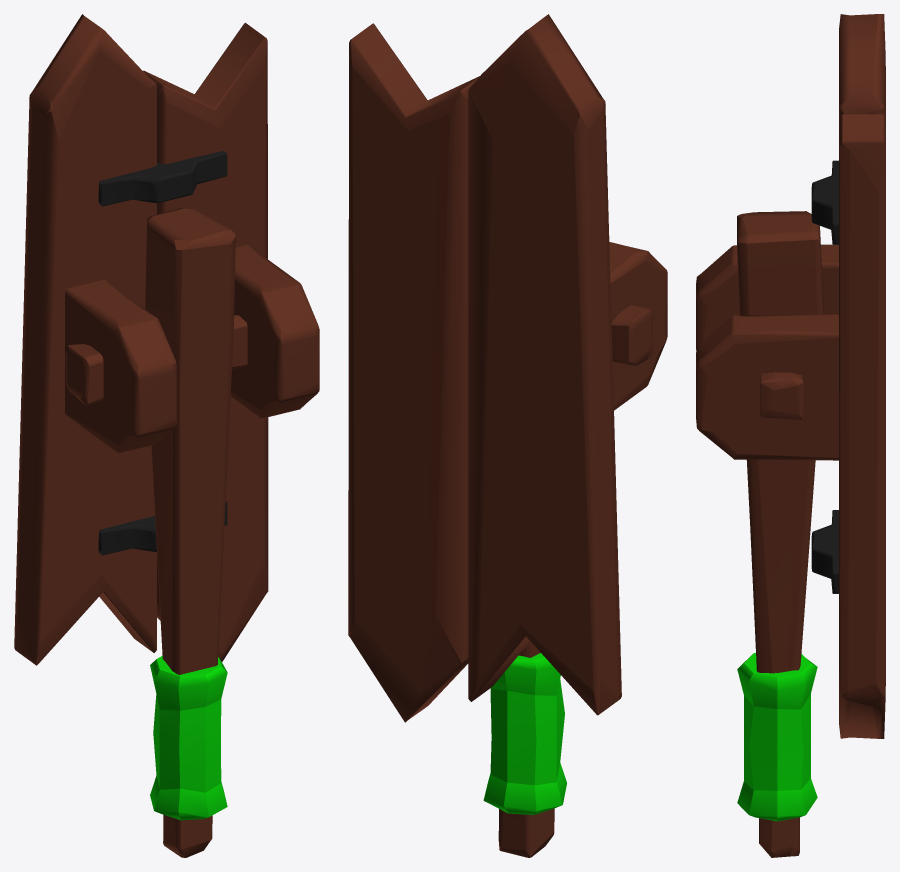
File: Lever.fbx
3 renders of one model, left to right at view 1: azimuth 30°, elevation 25°; view 2: azimuth 150°, elevation 25°; view 3: azimuth 270°, elevation 25°, orthographic. The views are drawn at different scales.
Parts seen in each view (by area): view 1: LeverSupport, LeverHandle; view 2: LeverSupport, LeverHandle; view 3: LeverSupport, LeverHandle.
Boxes of the visible parts, x1,y1,x2,y2 form: LeverSupport: (14, 14, 319, 665); LeverHandle: (65, 208, 247, 857); LeverSupport: (348, 14, 667, 722); LeverHandle: (483, 304, 652, 857); LeverSupport: (696, 14, 885, 738); LeverHandle: (737, 211, 824, 857).
Bounding box in the file's own units: 1.05 × 3.47 × 0.7361.
